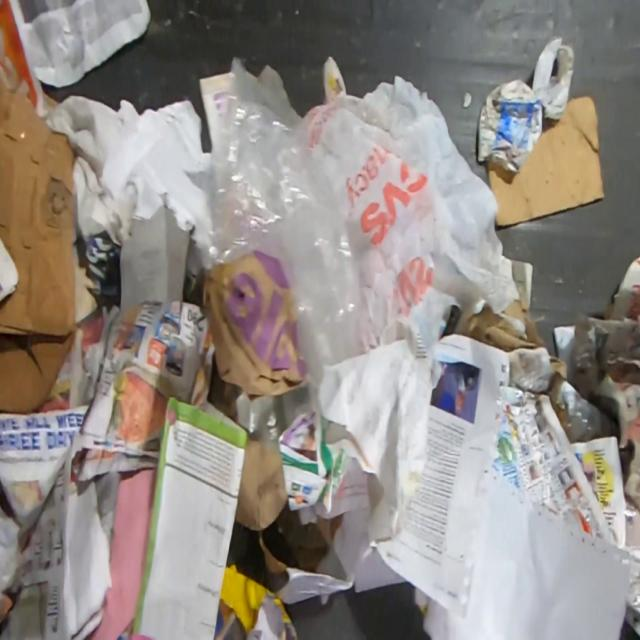cardboard: (0, 73, 77, 415), (199, 252, 303, 421), (486, 94, 605, 227), (234, 433, 344, 576), (118, 204, 192, 313), (476, 77, 543, 172), (443, 296, 548, 354), (531, 35, 575, 118), (544, 353, 568, 428)
soft_plastic: (294, 72, 522, 356), (200, 67, 364, 454), (554, 380, 620, 444), (622, 495, 640, 617)
